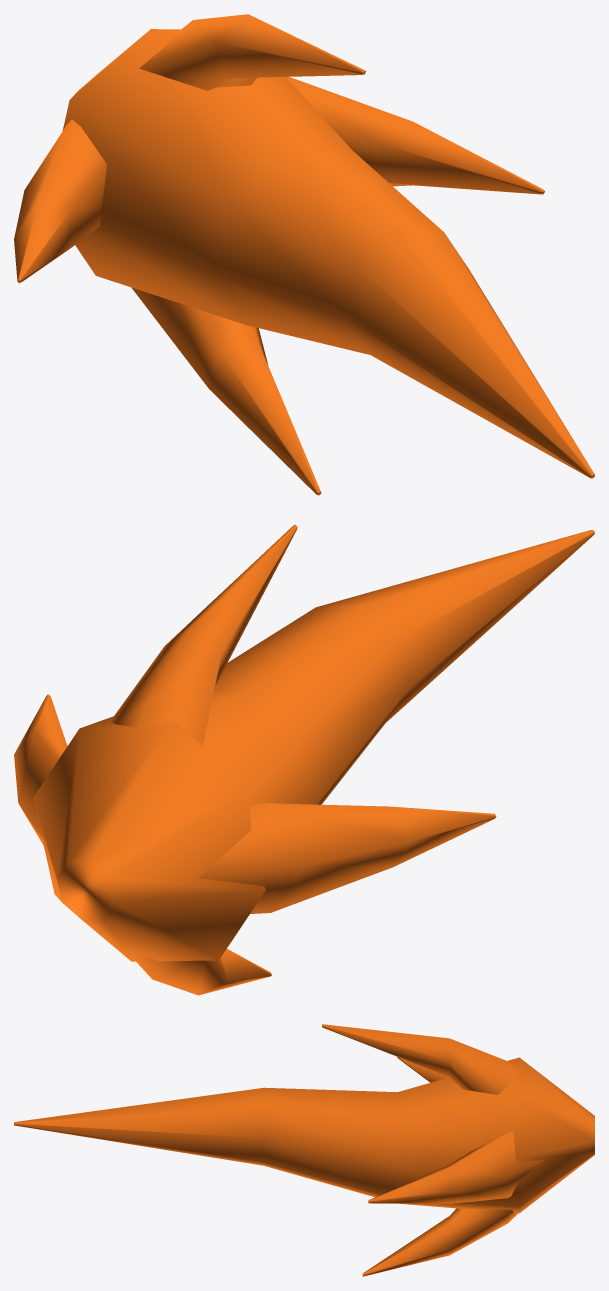
File: muzzle-flash.glb
3 renders of one model, top to bottom at view 1: azimuth 30°, elevation 25°; view 2: azimuth 150°, elevation 25°; view 3: azimuth 270°, elevation 25°, orthographic. The views are drawn at different scales.
Size of the model in its own units: 0.5656 by 0.4846 by 1.
